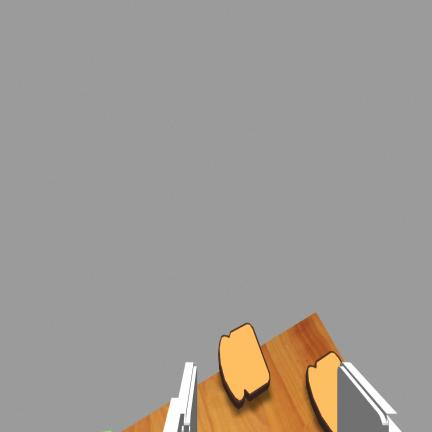sliced_bread: (219, 323, 270, 408), (306, 351, 341, 431)
